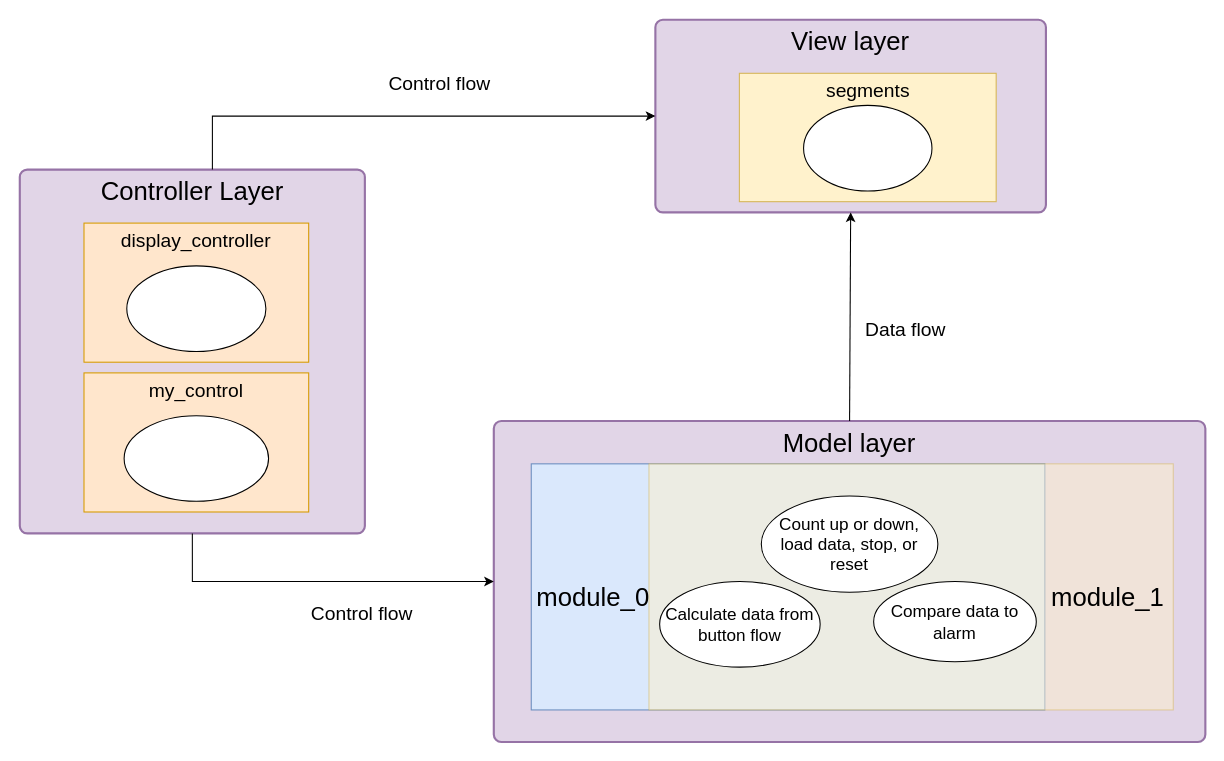
This 1224x761 diagram has some shape labels left out. The shapes that lost their labels are listed below. From the top down, each one's centre as x and y in pixels, then its label:
At point (867, 147): "Decode data to display".
At point (196, 308): "Control flow sent to view layer".
At point (196, 458): "Control flow sent to model layer".
